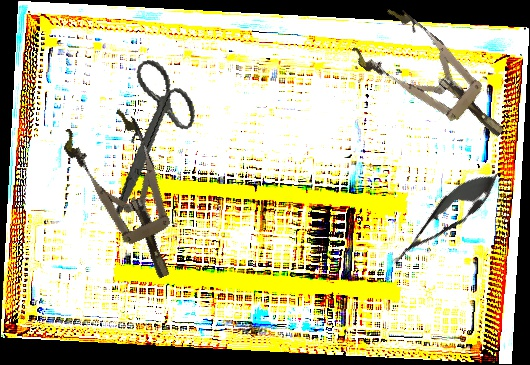Iris Scissors: (82, 53, 214, 221)
Micro Scissor: (381, 160, 507, 277)
Speculum: (347, 0, 523, 162), (57, 102, 199, 293)
